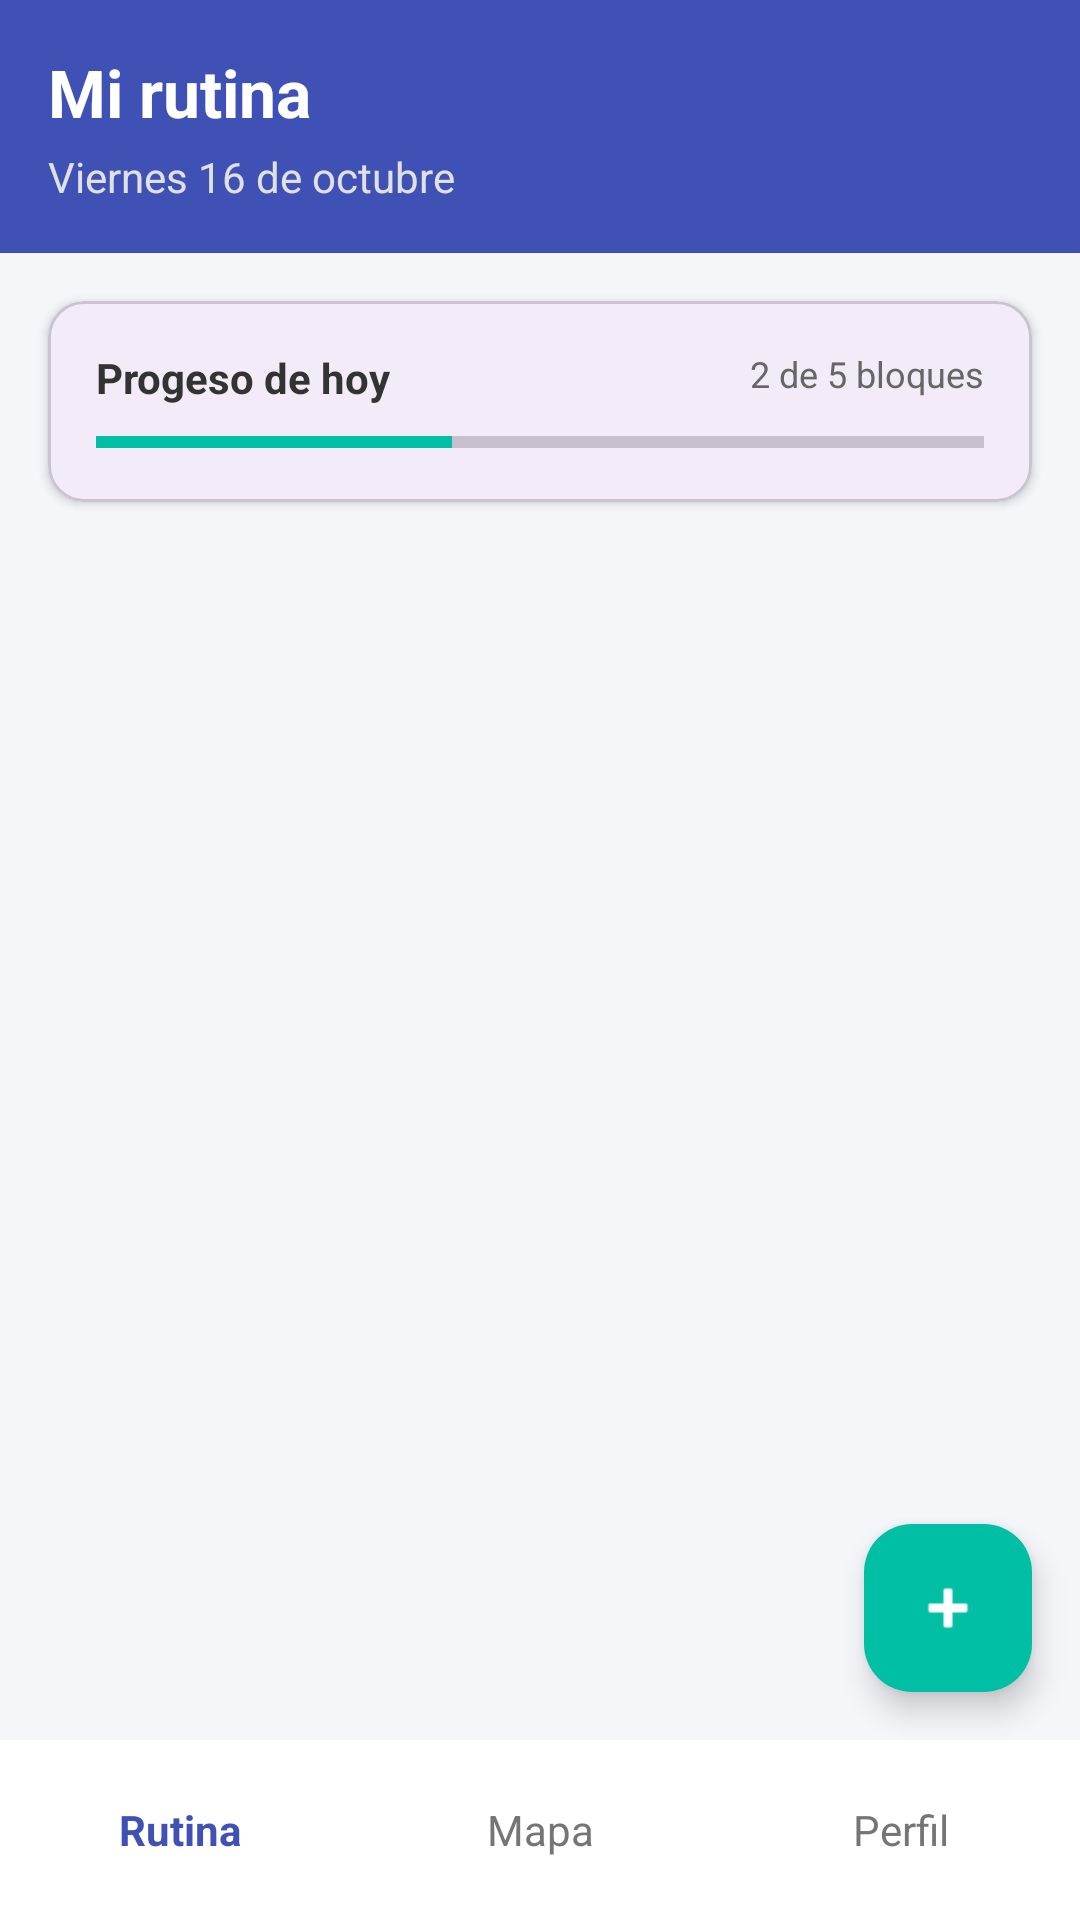

Named icons in this screenshot (1080 x 1920) and their bounding boxes, (x1, y1, x2, y2):
Agregar bloque de estudio: (864, 1524, 1032, 1692)
